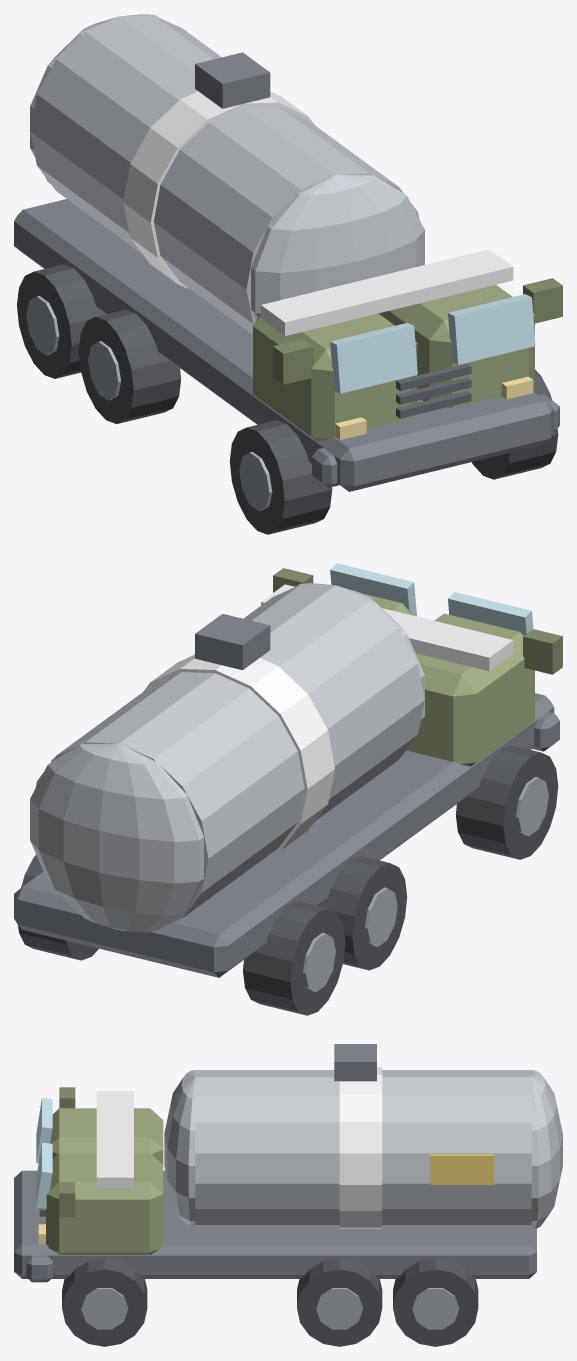
The model's file is tanker.glb.
3 views of the same model, one above another, from view 1: azimuth 30°, elevation 25°; view 2: azimuth 150°, elevation 25°; view 3: azimuth 270°, elevation 25° (orthographic). The views are drawn at different scales.
Visible parts, largest first — view 1: main; view 2: main; view 3: main.
Part boxes in pixels (x1=…): main: x1=14, y1=14, x2=562, y2=534; main: x1=14, y1=563, x2=562, y2=1015; main: x1=14, y1=1044, x2=562, y2=1346.
Size of the model in its own units: 0.47 by 0.5 by 1.03.
